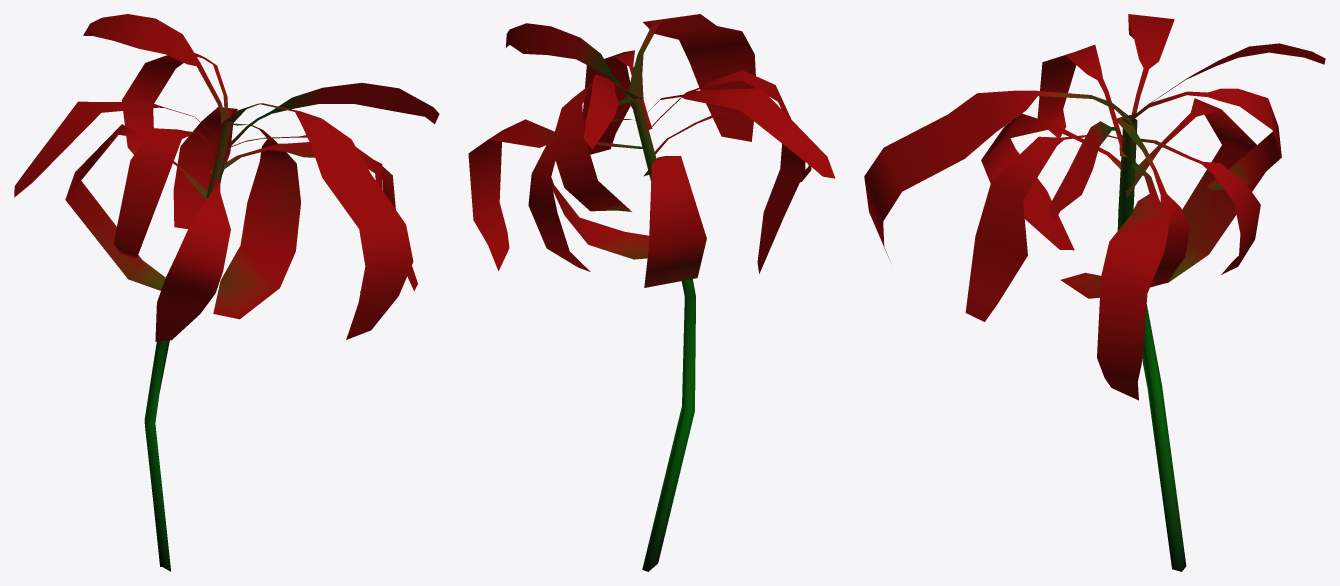
The model's file is Var11_LOD2.fbx.
3 renders of one model, left to right at view 1: azimuth 30°, elevation 25°; view 2: azimuth 150°, elevation 25°; view 3: azimuth 270°, elevation 25°, orthographic. The views are drawn at different scales.
Visible parts, largest first — view 1: _71cf_Var11_LOD2; view 2: _71cf_Var11_LOD2; view 3: _71cf_Var11_LOD2.
Part boxes in pixels (x1,y1,x2,y2): _71cf_Var11_LOD2: (14, 14, 439, 571); _71cf_Var11_LOD2: (468, 14, 835, 571); _71cf_Var11_LOD2: (864, 14, 1325, 571).
Bounding box in the file's own units: 32.4 × 42.34 × 33.15.
